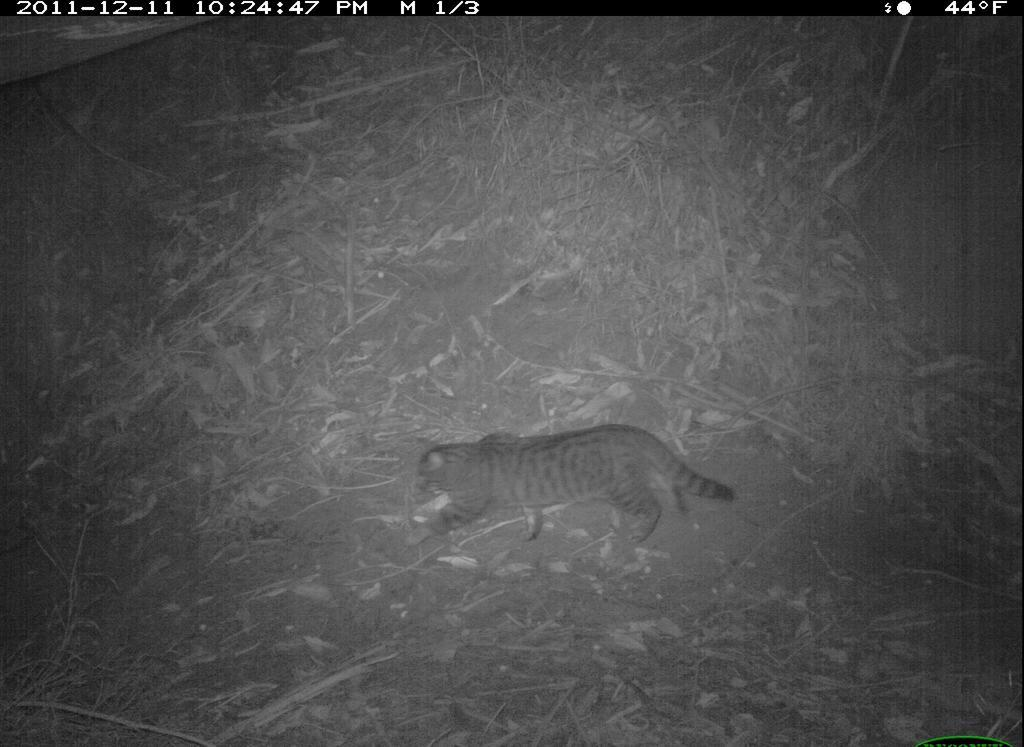cat: (406, 411, 742, 570)
